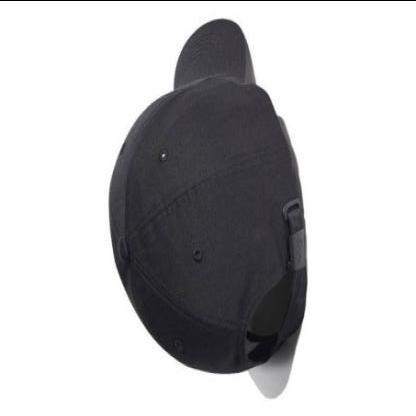cap: (101, 11, 315, 394)
